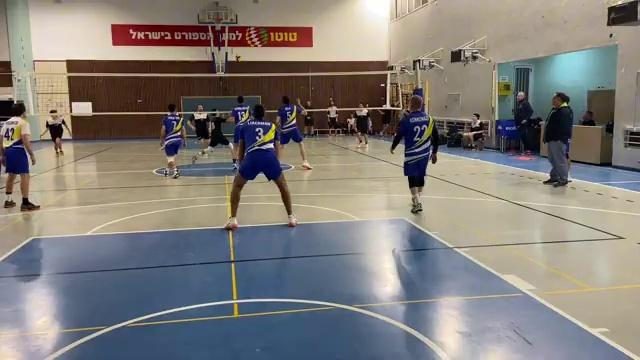ball: (235, 53, 245, 64)
